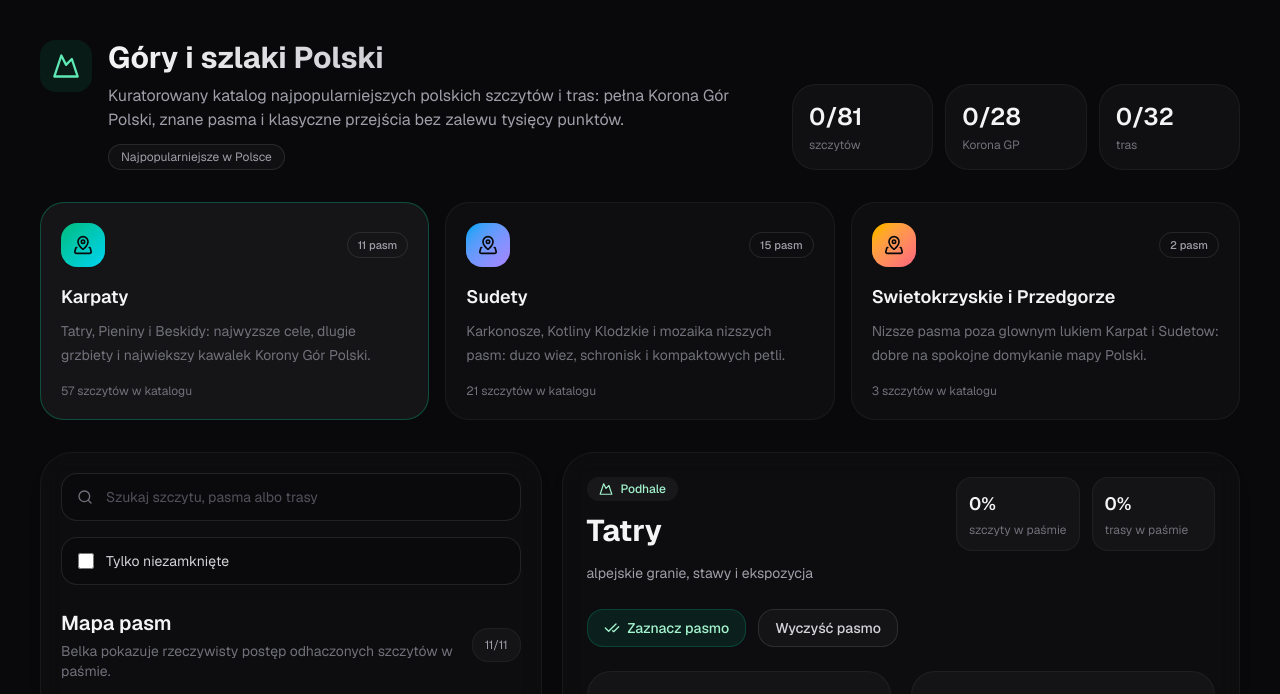
MountainExplorer › can mark the whole active range as visited
Click the button "Zaznacz pasmo" at point(666, 628), box [586,609,746,647]
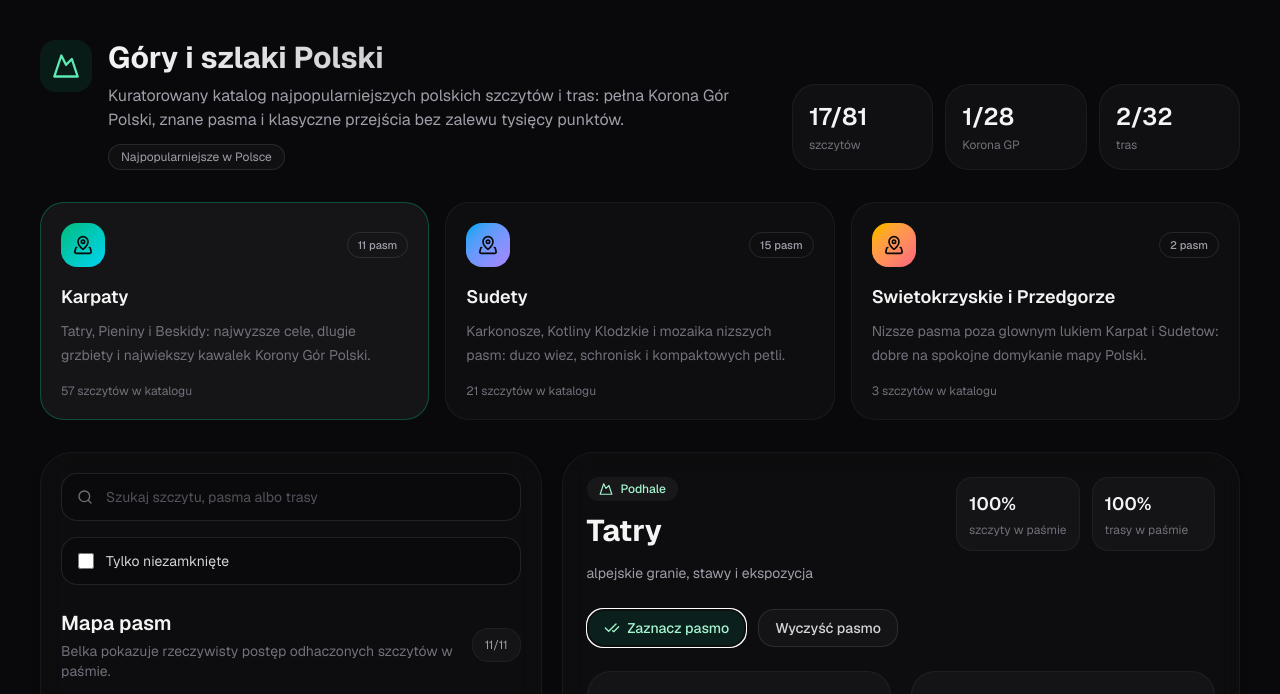
Now the text "17/81" is shown, box [809,101,867,132]
Now the text "2/32" is shown, box [1116,101,1173,132]
